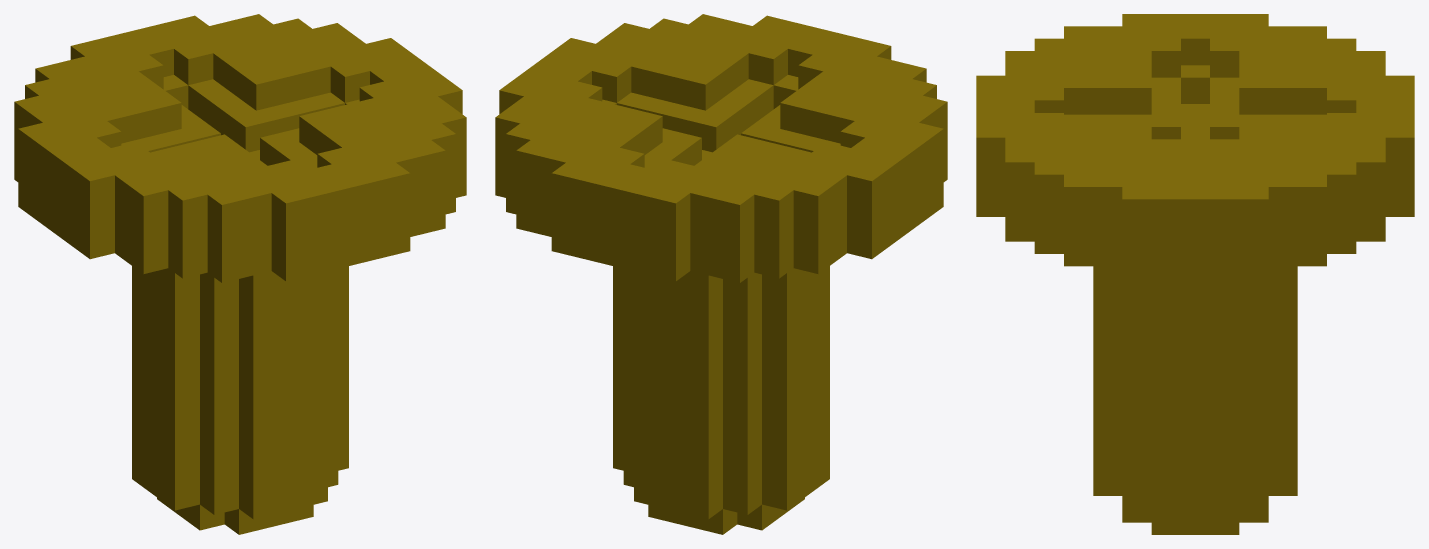
The model's file is Coin1.fbx.
3 renders of one model, left to right at view 1: azimuth 30°, elevation 25°; view 2: azimuth 150°, elevation 25°; view 3: azimuth 270°, elevation 25°, orthographic.
Parts seen in each view (by area): view 1: Matrix; view 2: Matrix; view 3: Matrix.
Part boxes in pixels (x1=…): Matrix: x1=14, y1=14, x2=466, y2=534; Matrix: x1=495, y1=14, x2=947, y2=534; Matrix: x1=976, y1=14, x2=1414, y2=534.
Bounding box in the file's own units: 15 × 15 × 15.
Materials: 1 (1 with a texture image).
